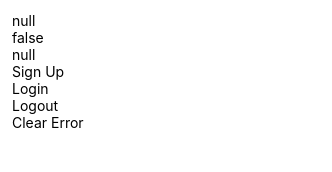
AuthContext › surfaces the server's friendly message on invalid sign-up
Click the button "Sign Up" at [48, 72], box [12,63,84,80]
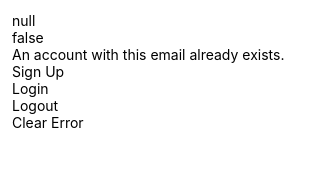
Expected: the text with test id "error" reads "An account with this email already exists.", [12,46,284,63]
